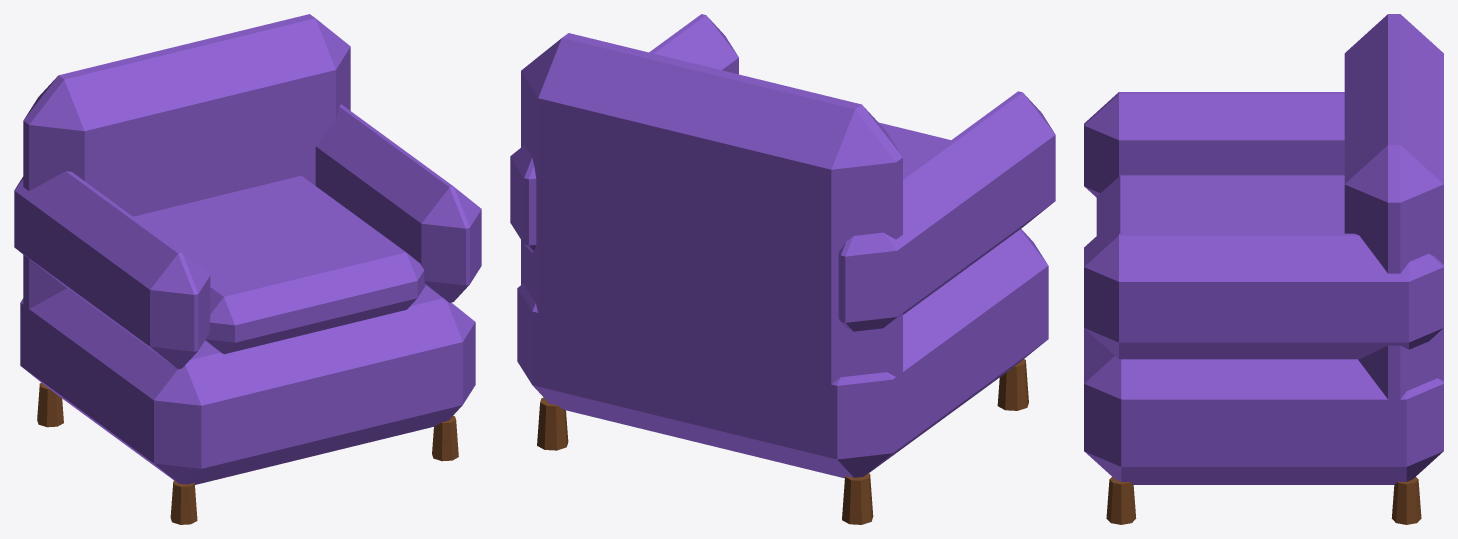
Rendered from PurpleArmchair.fbx.
3 renders of one model, left to right at view 1: azimuth 30°, elevation 25°; view 2: azimuth 150°, elevation 25°; view 3: azimuth 270°, elevation 25°, orthographic. The views are drawn at different scales.
Visible parts, largest first — view 1: PurpleArmchair; view 2: PurpleArmchair; view 3: PurpleArmchair.
Boxes of the visible parts, left/top/right/bottom form: PurpleArmchair: left=14, top=14, right=481, bottom=524; PurpleArmchair: left=510, top=14, right=1055, bottom=524; PurpleArmchair: left=1084, top=14, right=1443, bottom=524.
Bounding box in the file's own units: 3.3 × 3.3 × 2.9.
Materials: 1 (1 with a texture image).
